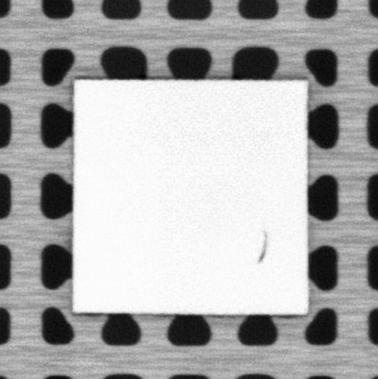DIE_INK: (255, 230, 269, 265)
